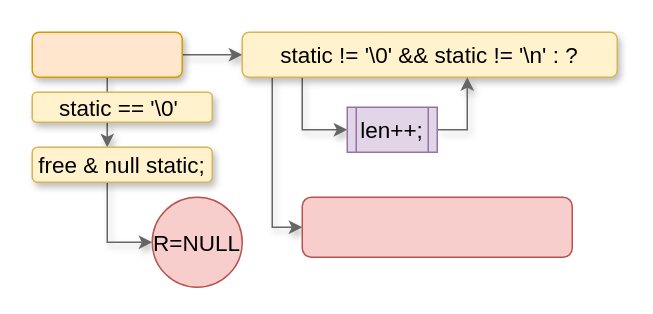
The diagram is 653 pixels wide and 314 high, and some of its shapes have lost their labels. Each missing label, with the centre of its shape:
"gnl return" goes at [108,56].
"return(get_line(static, len))" goes at [436,226].
